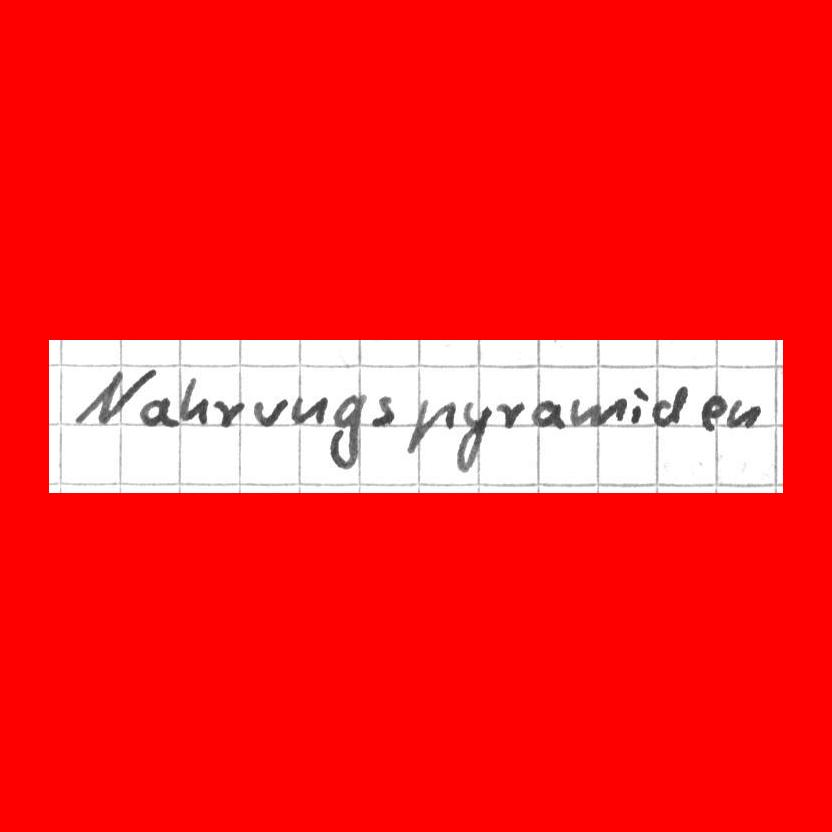Char: (75, 369, 144, 428), (329, 389, 367, 471), (404, 395, 453, 453), (453, 404, 493, 472), (569, 395, 626, 428), (652, 382, 688, 431), (178, 373, 209, 428), (135, 395, 179, 429), (290, 392, 327, 427), (530, 398, 565, 430), (727, 396, 760, 429), (211, 397, 245, 429), (699, 392, 726, 432), (253, 397, 285, 428), (369, 391, 395, 428), (496, 399, 524, 429), (629, 385, 647, 427)
